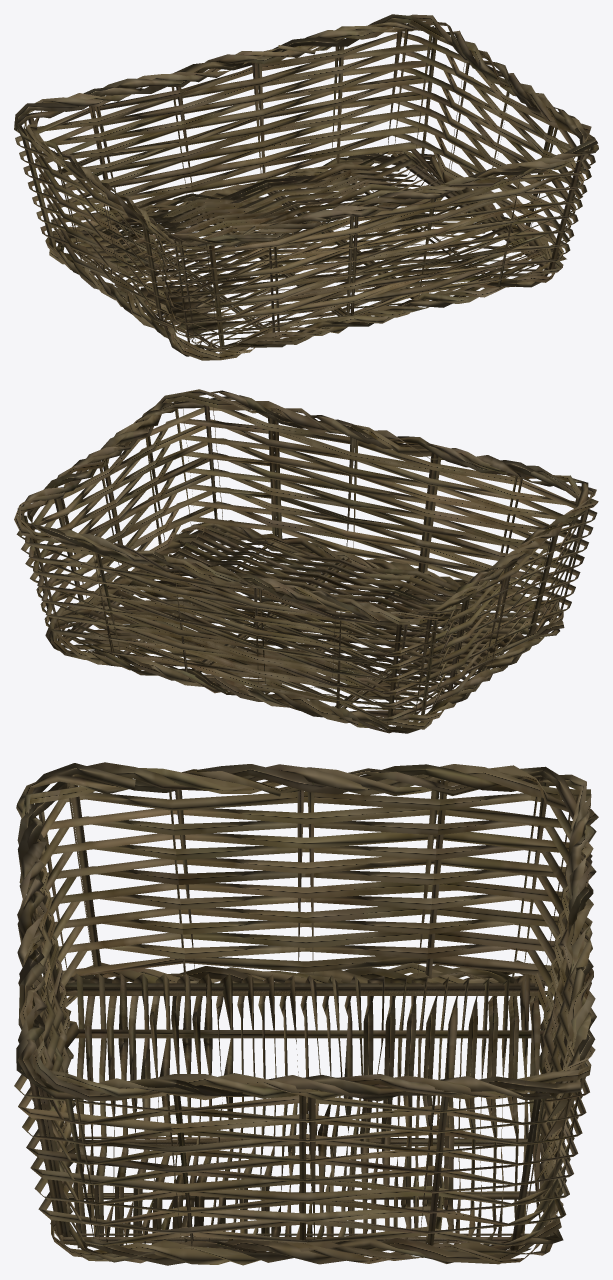
File: wicker_basket_01.glb
The picture shows the model from 3 angles, top to bottom: view 1: azimuth 30°, elevation 25°; view 2: azimuth 150°, elevation 25°; view 3: azimuth 270°, elevation 25°; orthographic projection. The views are drawn at different scales.
Visible parts, largest first — view 1: wicker_basket_01; view 2: wicker_basket_01; view 3: wicker_basket_01.
Part boxes in pixels (x1,y1,x2,y2): wicker_basket_01: (14, 14, 598, 360); wicker_basket_01: (14, 389, 598, 733); wicker_basket_01: (14, 762, 598, 1265).
Bounding box in the file's own units: 0.383 × 0.1174 × 0.2939.
1 material, 1 textured.
